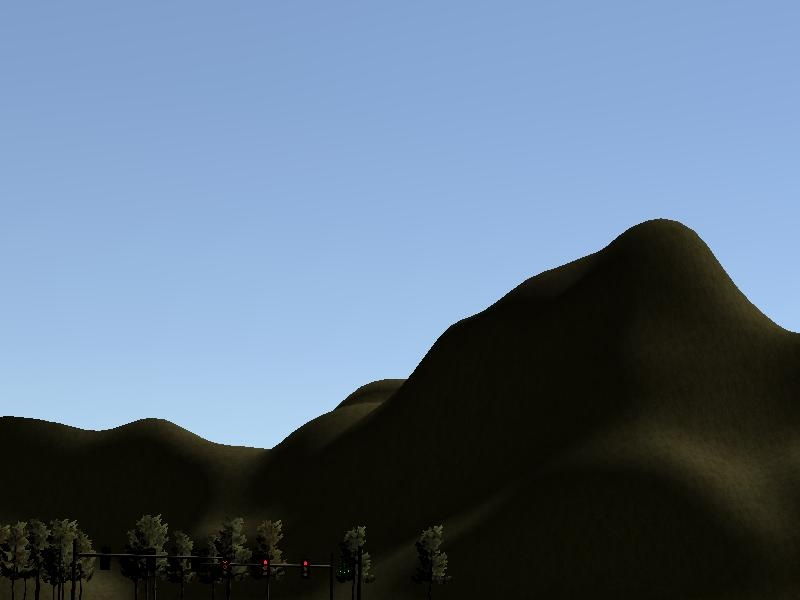RED: (260, 557, 272, 585), (300, 559, 310, 582)
